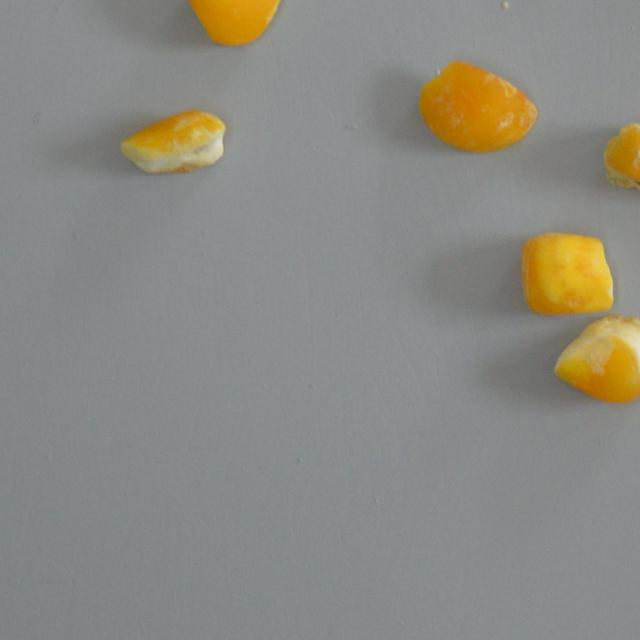estandar: (552, 314, 640, 405)
pelicula: (415, 60, 539, 157), (116, 104, 240, 180), (517, 232, 618, 316), (186, 0, 286, 50), (602, 123, 640, 199)
